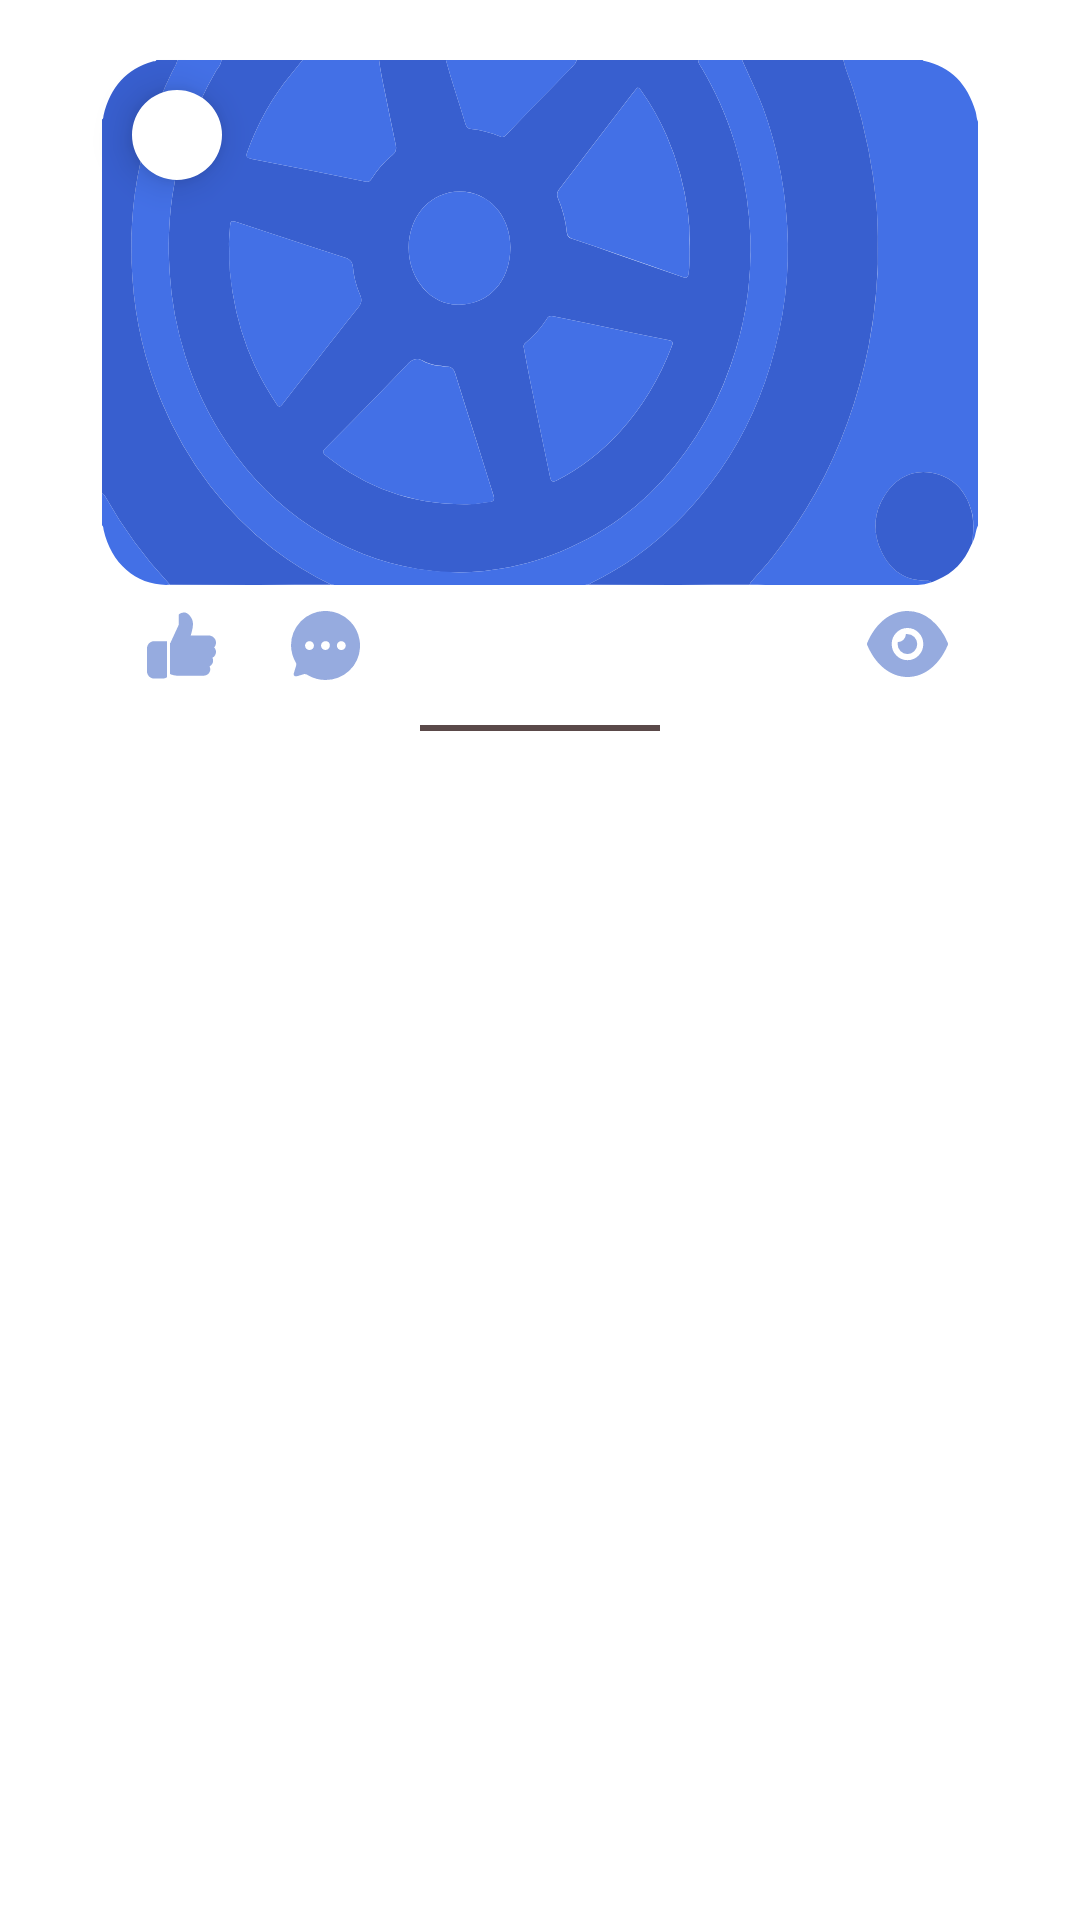

Icons on this 1080px x 1920px Android screen, each with the point to tap as [x,y]:
comment: [325,645]
like unpressed: [181,645]
seen: [907,644]
